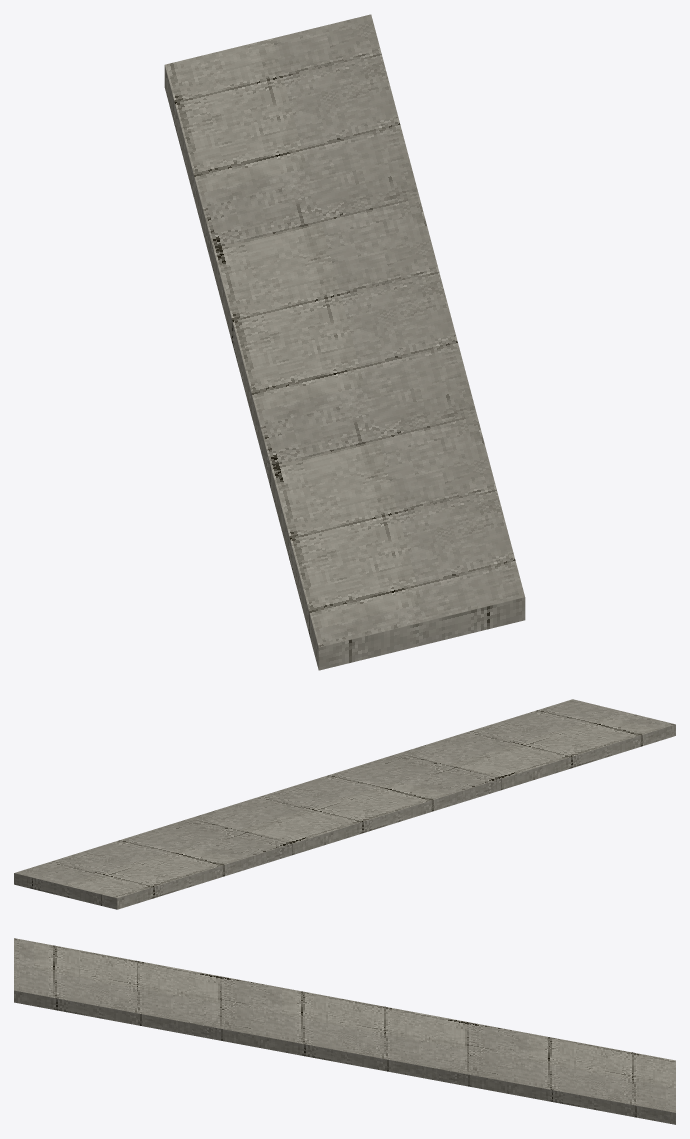
Rendered from road_side_full_45.glb.
3 views of the same model, one above another, from view 1: azimuth 30°, elevation 25°; view 2: azimuth 150°, elevation 25°; view 3: azimuth 270°, elevation 25° (orthographic). The views are drawn at different scales.
Visible parts, largest first — view 1: road_side_full_45; view 2: road_side_full_45; view 3: road_side_full_45.
Boxes of the visible parts, <box> form: road_side_full_45: <box>164,14,525,670</box>; road_side_full_45: <box>14,699,675,909</box>; road_side_full_45: <box>14,938,675,1124</box>.
Size of the model in its own units: 10 by 0.32 by 16.
1 material, 1 textured.
